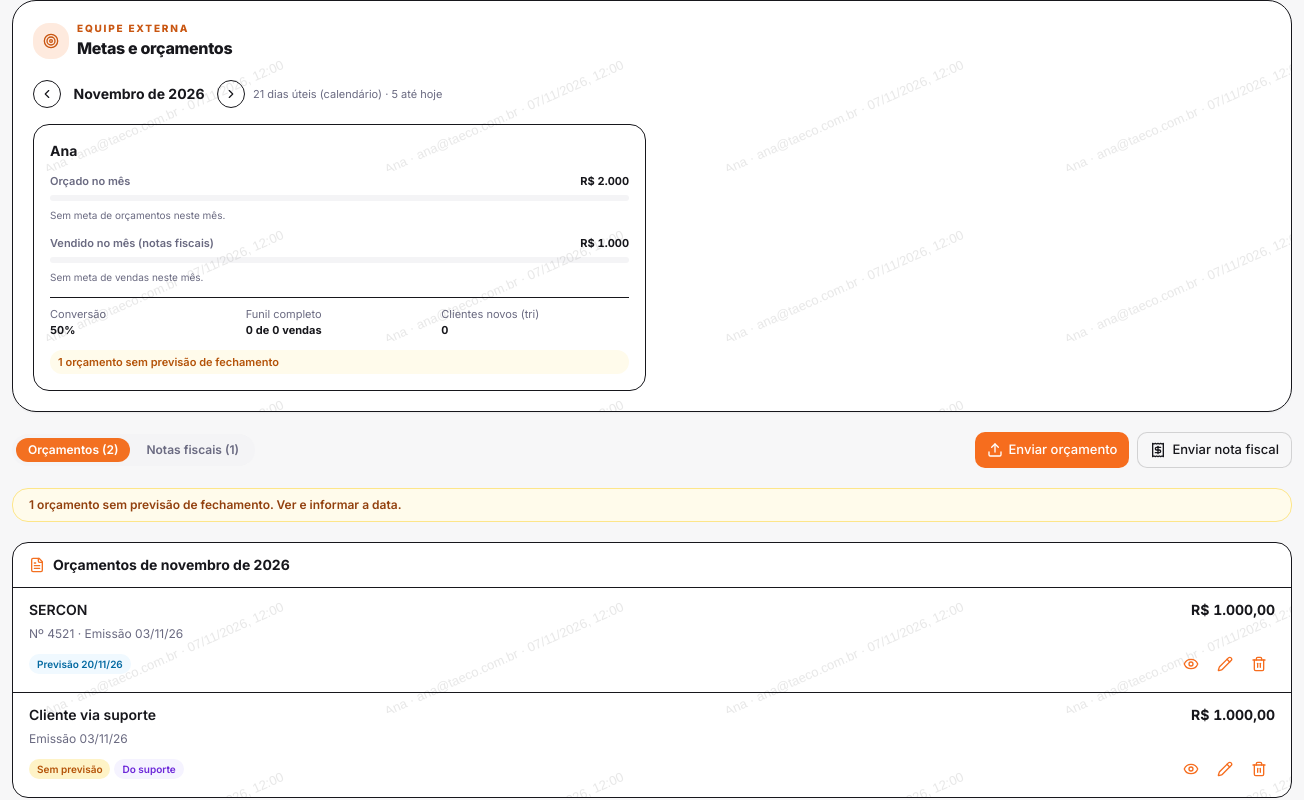
Test: SalesDocuments › shows the seller only their documents, flags missing closing dates and hides export
Expected: the text "SERCON" is shown, [29,600,87,620]
Expected: the heading "Metas e orçamentos" is shown, [77,36,232,60]
Click the button "1 orçamento sem previsão de fechamento" at (67, 504), box [12,488,1292,522]
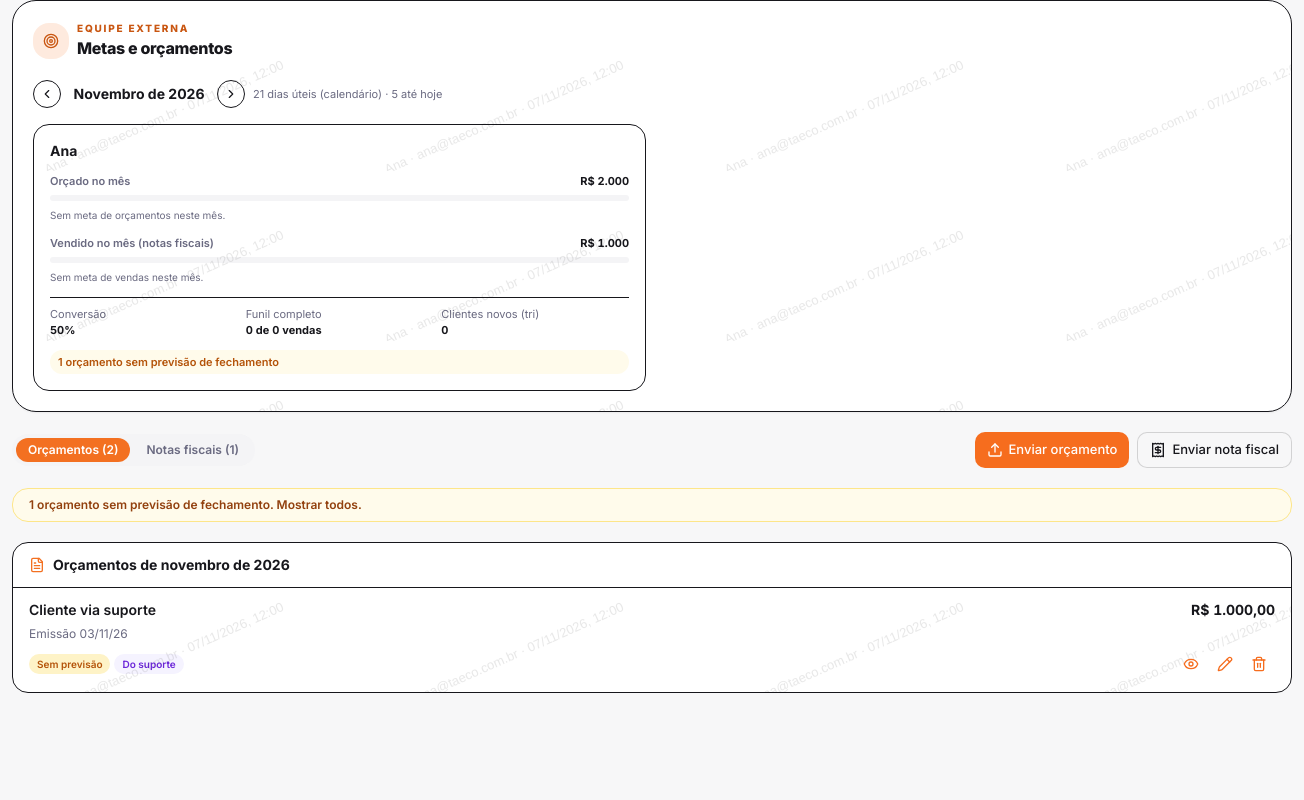
Expected: the text "Sem previsão" is shown, [29,654,110,674]
Expected: the text "SERCON" is gone
Click the button "Notas fiscais (1)" at (193, 450), box [134,438,251,462]
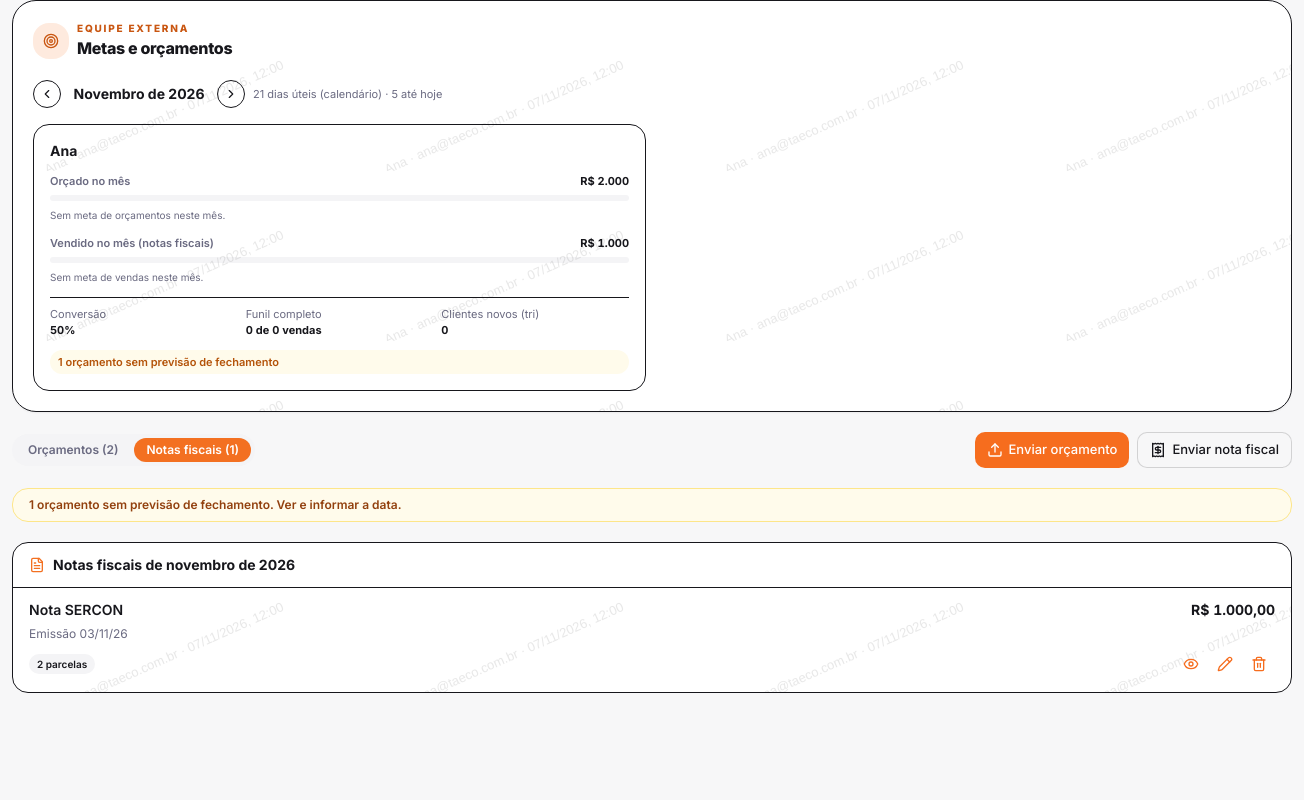
Expected: the text "2 parcelas" is shown, [29,654,95,674]
